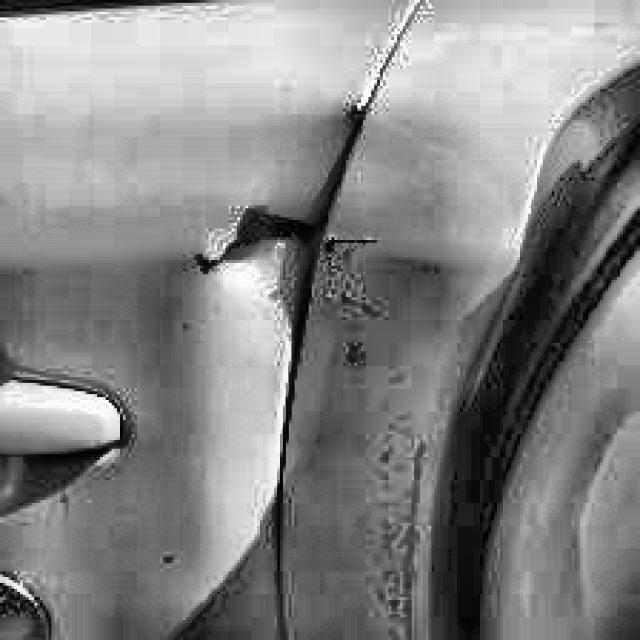door_dent: (191, 182, 363, 333)
